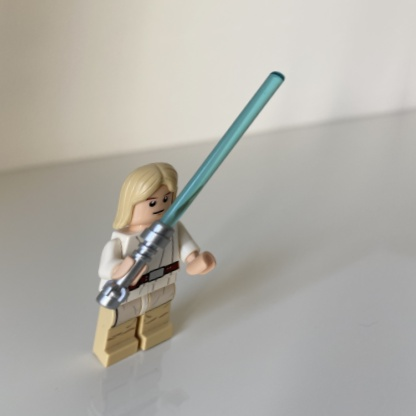luke-skywalker: (91, 70, 286, 367)
